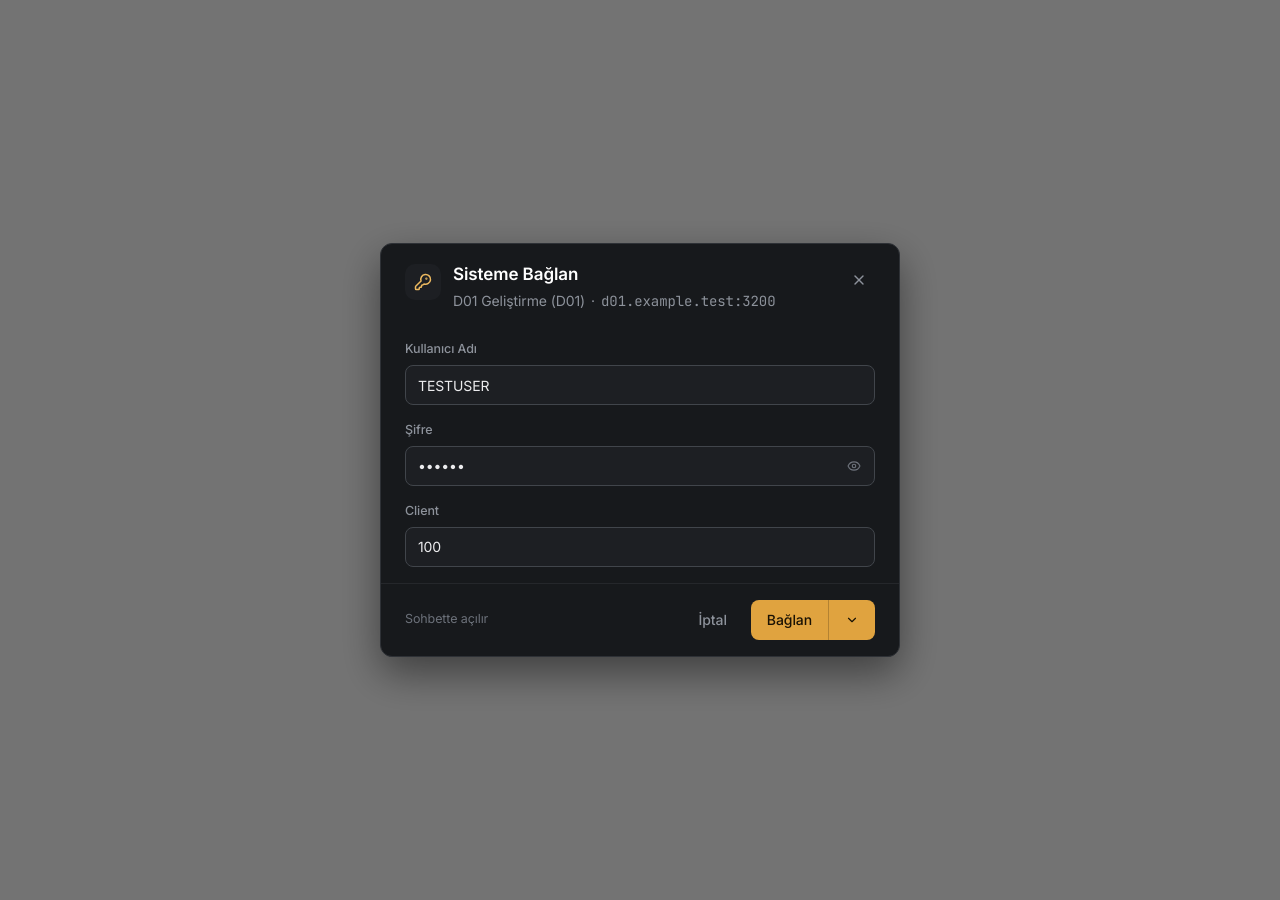
Scenario: CredentialsModal › ok menüsü üç yer sunuyor; seçim tek seferlik hedefle gönderiyor
Check: the field labelled "Kullanıcı Adı" holds "TESTUSER", box x1=405 y1=365 x2=875 y2=405
Click the button named "Başka yerde aç".
click(852, 620)  # box x1=828 y1=600 x2=875 y2=640
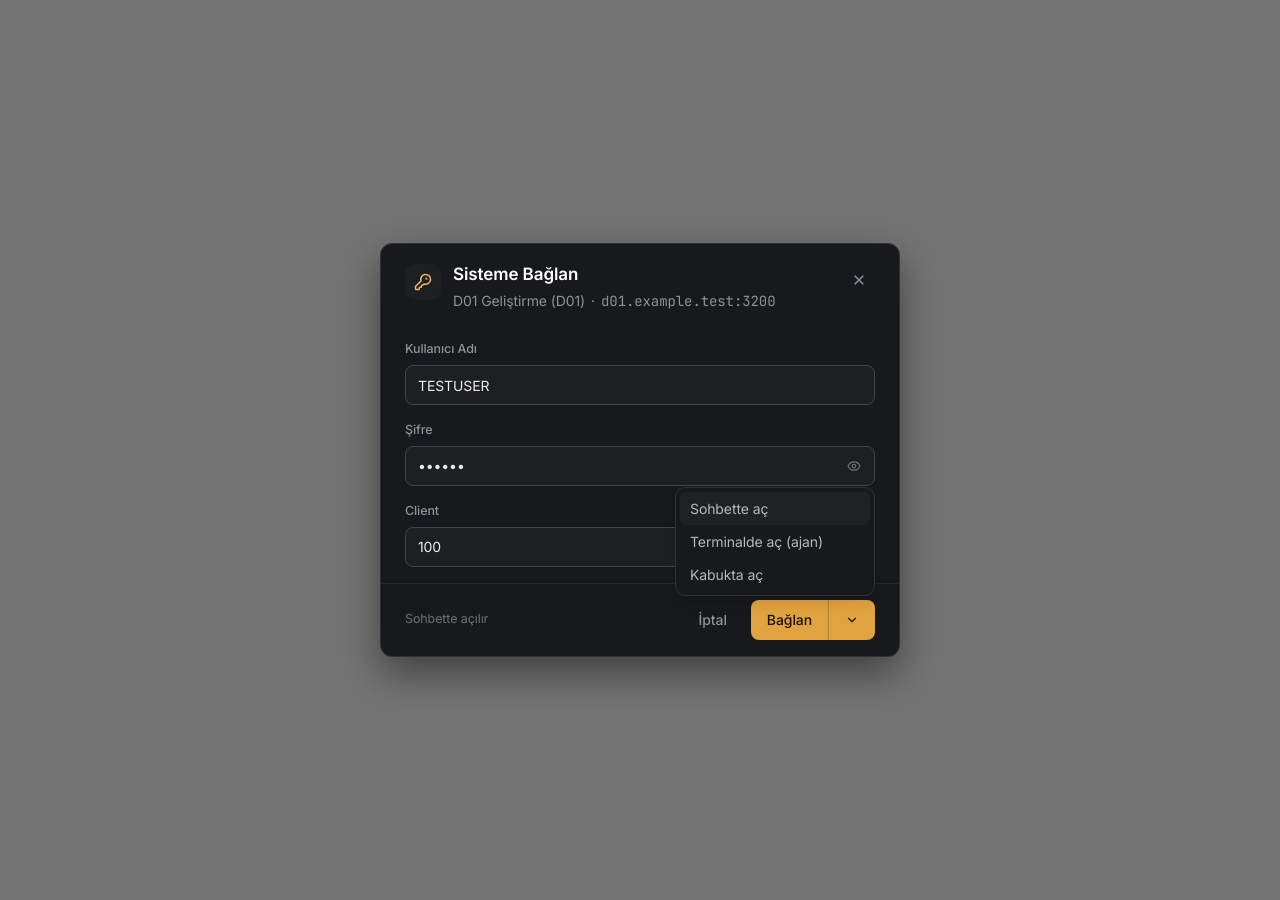
Check: the menu items read "Sohbette aç", "Terminalde aç (ajan)", "Kabukta aç", in this order
Click the menu item "Kabukta aç".
click(775, 574)  # box x1=680 y1=558 x2=870 y2=591
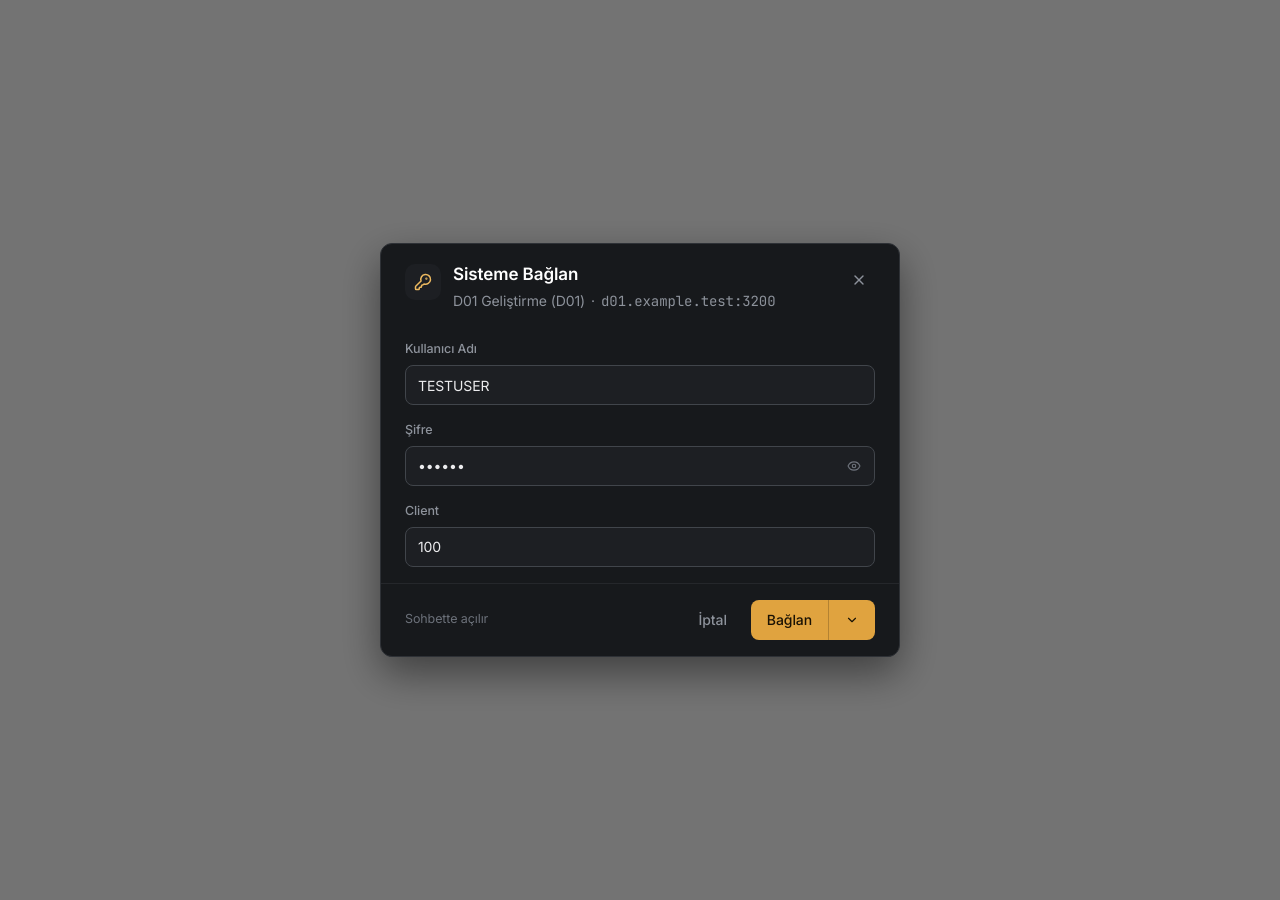
Check: the menu is gone
